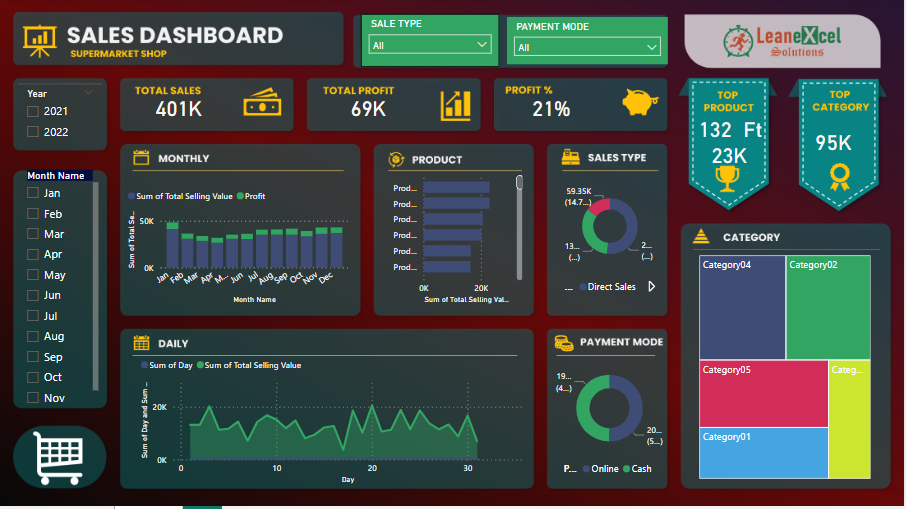

What the dashboard file says about the page in this screenshot:
{"tool":"powerbi","page":{"name":"Sales","canvas":[1280,720],"ordinal":0},"visuals":[{"type":"slicer","fields":{"Values":["InputData.Year"]},"box":[25.5,116.2,119.1,96.4],"z":0},{"type":"slicer","fields":{"Values":["InputData.Month Name"]},"box":[25.5,238.1,119.1,348.7],"z":1000},{"type":"slicer","fields":{"Values":["InputData.SALE TYPE"]},"box":[511.7,22.7,195.6,75.1],"z":2000},{"type":"slicer","fields":{"Values":["InputData.PAYMENT MODE"]},"box":[718.6,26.9,228.2,66.6],"z":3000},{"type":"card","fields":{"Values":["Sum(InputData.Total Selling Value)"]},"box":[154.5,106.3,197,97.8],"z":4000},{"type":"card","fields":{"Values":["InputData.Profit"]},"box":[422.4,97.8,198.4,114.8],"z":5000},{"type":"card","fields":{"Values":["InputData.Profit %"]},"box":[681.7,97.8,198.4,114.8],"z":6000},{"type":"card","fields":{"Values":["Sum(InputData.Total Selling Value)"]},"box":[934,164.4,198.4,114.8],"z":7000},{"type":"card","fields":{"Values":["Sum(InputData.QUANTITY)"]},"box":[914.2,148.8,198.4,73.7],"z":8000},{"type":"card","fields":{"Values":["Sum(InputData.Total Selling Value)"]},"box":[1081.4,146,198.4,114.8],"z":9000},{"type":"card","fields":{"Values":["Min(InputData.MasterData.UOM)"]},"box":[968,127.6,198.4,116.2],"z":10000},{"type":"columnChart","fields":{"Category":["InputData.Month Name"],"Y":["Sum(InputData.Total Selling Value)","InputData.Profit"]},"box":[175.7,260.8,323.1,177.2],"z":11000},{"type":"clusteredBarChart","fields":{"Y":["Sum(InputData.Total Selling Value)"],"Category":["InputData.MasterData.PRODUCT"]},"box":[534.3,238.1,211.2,199.8],"z":12000},{"type":"areaChart","fields":{"Y":["Sum(InputData.Day)","Sum(InputData.Total Selling Value)"],"Category":["InputData.Day"]},"box":[194.2,500.3,551.3,192.8],"z":13000},{"type":"donutChart","fields":{"Y":["Sum(InputData.Total Selling Value)"],"Category":["InputData.SALE TYPE"]},"box":[795.1,248,138.9,180],"z":14000},{"type":"donutChart","fields":{"Y":["Sum(InputData.Total Selling Value)"],"Category":["InputData.PAYMENT MODE"]},"box":[780.9,506,165.8,180],"z":15000},{"type":"treemap","fields":{"Group":["InputData.MasterData.CATEGORY"],"Values":["Sum(InputData.Total Selling Value)"]},"box":[986.5,360,252.3,326],"z":16000}]}

Visuals, with their boxes in screenshot pixels (x1, y1, x2, y2), scaled from the page's 1280x720 canvas onto the 906x509 screenshot:
slicer - InputData.Year: {"left": 18, "top": 82, "right": 102, "bottom": 150}
slicer - InputData.Month Name: {"left": 18, "top": 168, "right": 102, "bottom": 415}
slicer - InputData.SALE TYPE: {"left": 362, "top": 16, "right": 501, "bottom": 69}
slicer - InputData.PAYMENT MODE: {"left": 509, "top": 19, "right": 670, "bottom": 66}
card - Sum(InputData.Total Selling Value): {"left": 109, "top": 75, "right": 249, "bottom": 144}
card - InputData.Profit: {"left": 299, "top": 69, "right": 439, "bottom": 150}
card - InputData.Profit %: {"left": 483, "top": 69, "right": 623, "bottom": 150}
card - Sum(InputData.Total Selling Value): {"left": 661, "top": 116, "right": 802, "bottom": 197}
card - Sum(InputData.QUANTITY): {"left": 647, "top": 105, "right": 788, "bottom": 157}
card - Sum(InputData.Total Selling Value): {"left": 765, "top": 103, "right": 905, "bottom": 184}
card - Min(InputData.MasterData.UOM): {"left": 685, "top": 90, "right": 826, "bottom": 172}
columnChart - InputData.Month Name x Sum(InputData.Total Selling Value): {"left": 124, "top": 184, "right": 353, "bottom": 310}
clusteredBarChart - Sum(InputData.Total Selling Value) x InputData.MasterData.PRODUCT: {"left": 378, "top": 168, "right": 528, "bottom": 310}
areaChart - Sum(InputData.Day) x Sum(InputData.Total Selling Value): {"left": 137, "top": 354, "right": 528, "bottom": 490}
donutChart - Sum(InputData.Total Selling Value) x InputData.SALE TYPE: {"left": 563, "top": 175, "right": 661, "bottom": 303}
donutChart - Sum(InputData.Total Selling Value) x InputData.PAYMENT MODE: {"left": 553, "top": 358, "right": 670, "bottom": 485}
treemap - InputData.MasterData.CATEGORY x Sum(InputData.Total Selling Value): {"left": 698, "top": 255, "right": 877, "bottom": 485}
